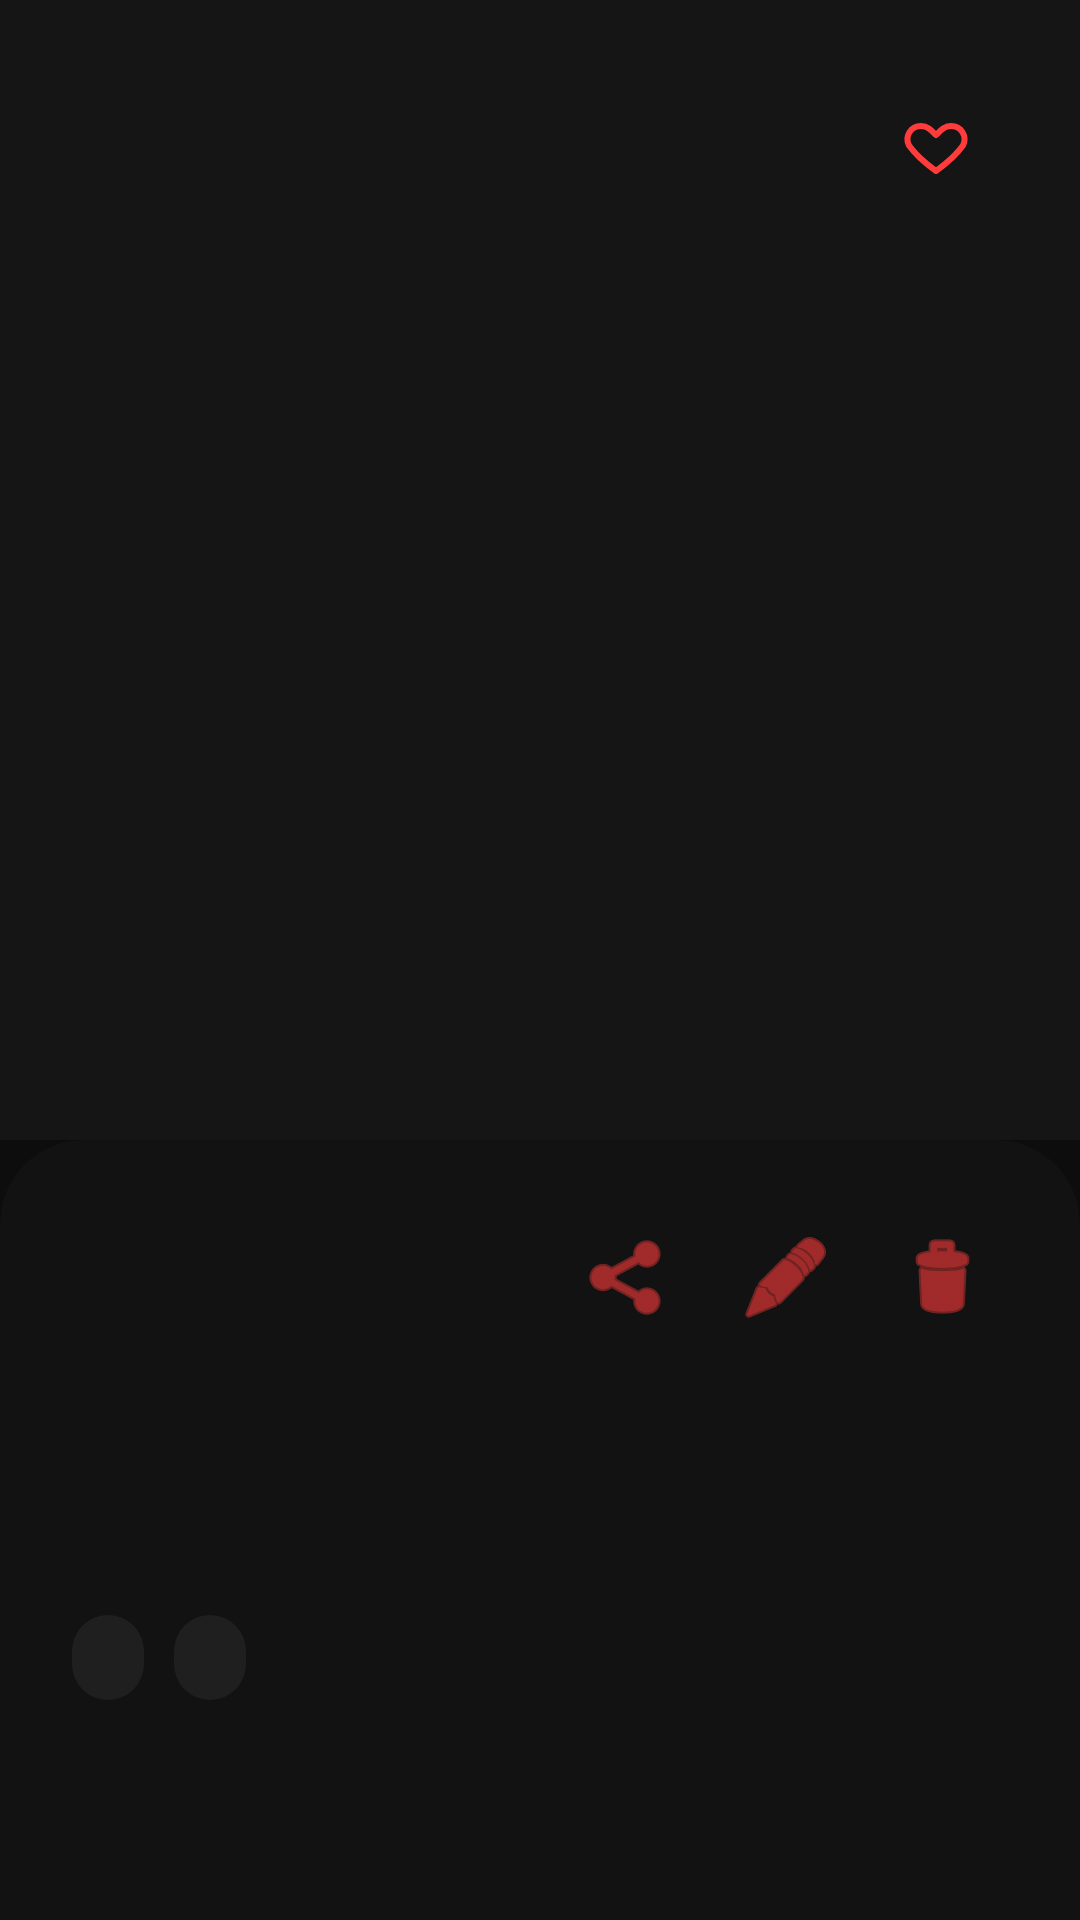

Icon click points for this 1080 x 1920 phone screenshot, format (x=x, y=y):
delete: (x=942, y=1276)
edit: (x=785, y=1277)
heart: (x=936, y=148)
share: (x=625, y=1277)
